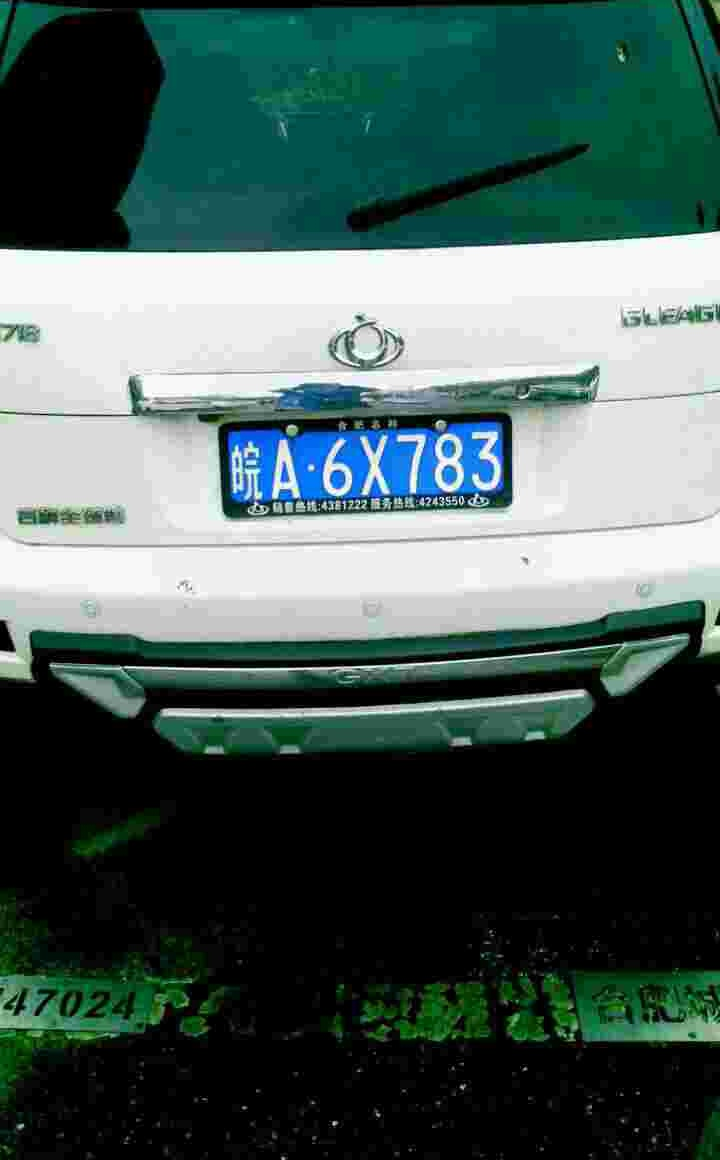license_plate: (229, 417, 521, 510)
